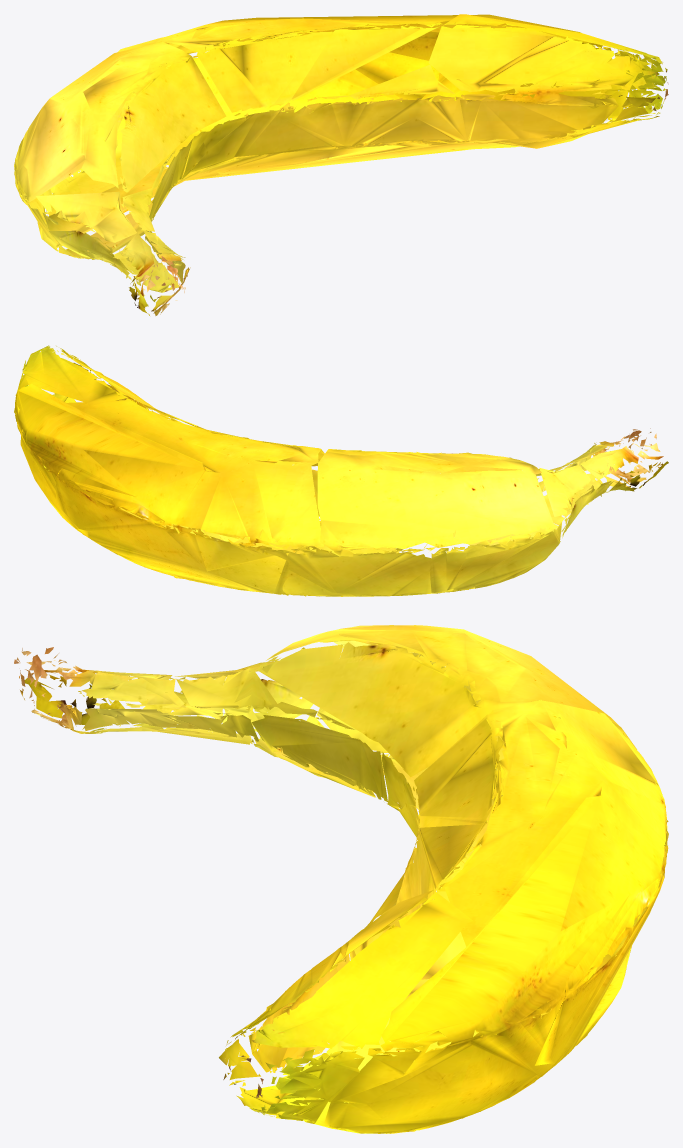
File: banana_low.glb
3 renders of one model, top to bottom at view 1: azimuth 30°, elevation 25°; view 2: azimuth 150°, elevation 25°; view 3: azimuth 270°, elevation 25°, orthographic. The views are drawn at different scales.
Parts seen in each view (by area): view 1: Object_22; view 2: Object_22; view 3: Object_22.
Part boxes in pixels (box(x1,y1,x2,y2)): Object_22: box(14, 14, 668, 315); Object_22: box(14, 345, 668, 596); Object_22: box(14, 625, 668, 1133).
Size of the model in its own units: 6.76 by 1.61 by 4.43.
Materials: 1 (1 with a texture image).
